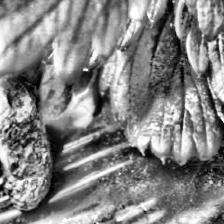Gray Mold: (0, 63, 51, 212)
